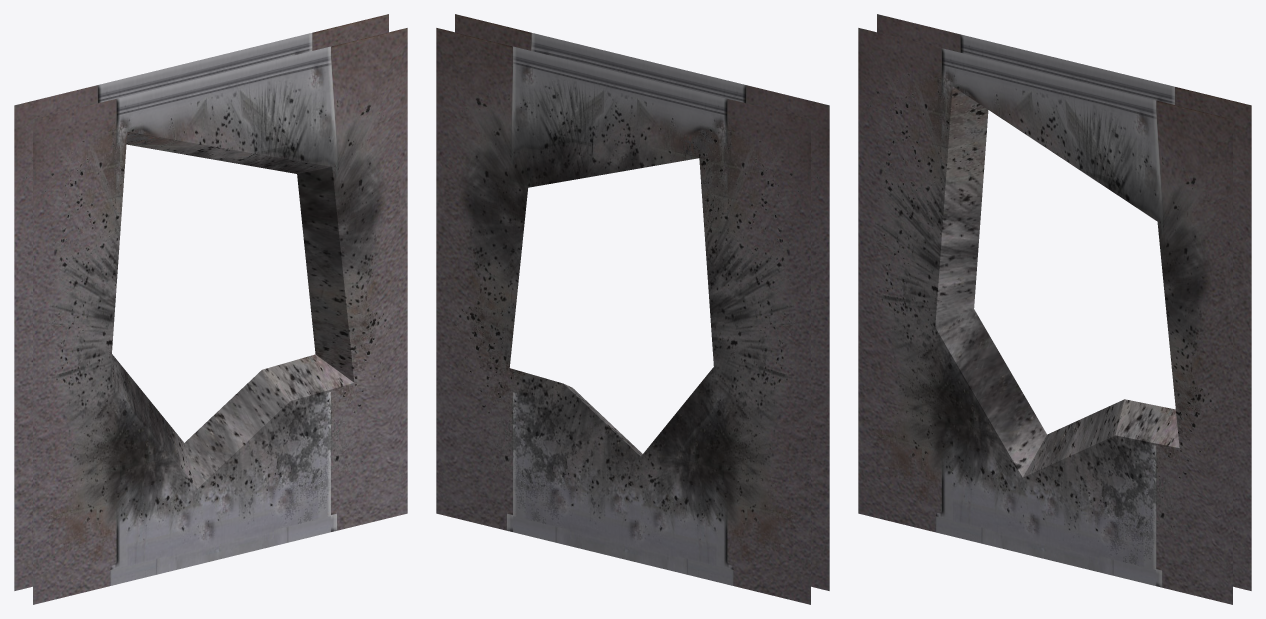
The model's file is doubleH.obj.
3 views of the same model, side by side, from view 1: azimuth 30°, elevation 25°; view 2: azimuth 150°, elevation 25°; view 3: azimuth 330°, elevation 25° (orthographic).
Parts seen in each view (by area): view 1: polySurface196; view 2: polySurface196; view 3: polySurface196.
Part boxes in pixels (<box>): polySurface196: <box>14,14,407,604</box>; polySurface196: <box>436,14,829,604</box>; polySurface196: <box>858,14,1251,604</box>.
Size of the model in its own units: 0.9666 by 1.2 by 0.0836.
1 material, 1 textured.
